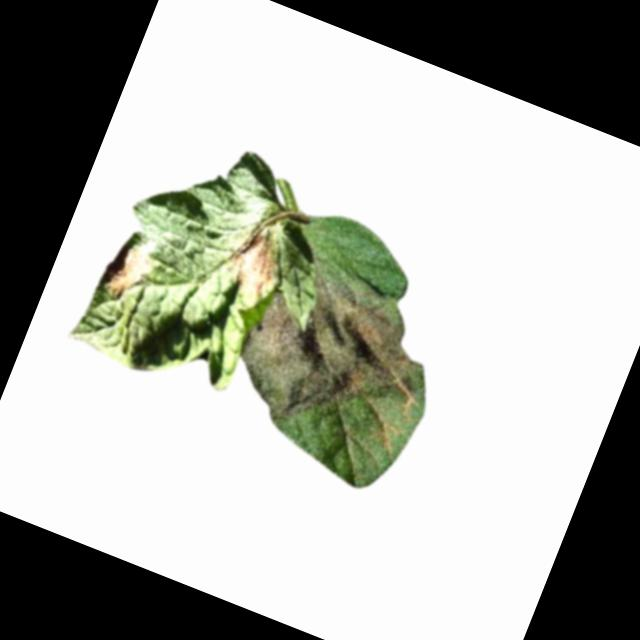Late_blight: (217, 240, 453, 469), (215, 224, 287, 305), (94, 237, 156, 309)
